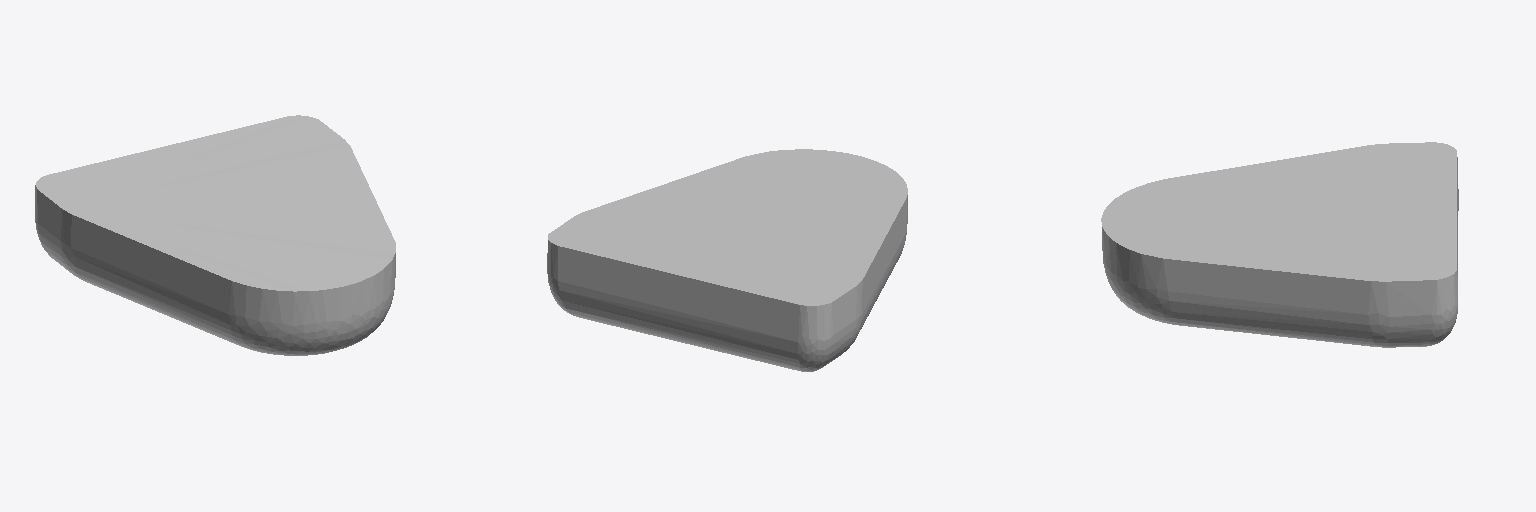
The model's file is smg_tactip_core.obj.
3 renders of one model, left to right at view 1: azimuth 30°, elevation 25°; view 2: azimuth 150°, elevation 25°; view 3: azimuth 270°, elevation 25°, orthographic.
Parts seen in each view (by area): view 1: TB_skin-1; view 2: TB_skin-1; view 3: TB_skin-1.
Boxes of the visible parts, x1=… form: TB_skin-1: x1=35, y1=115, x2=395, y2=355; TB_skin-1: x1=547, y1=149, x2=907, y2=371; TB_skin-1: x1=1101, y1=142, x2=1458, y2=347.
Size of the model in its own units: 0.036 by 0.011 by 0.0393.